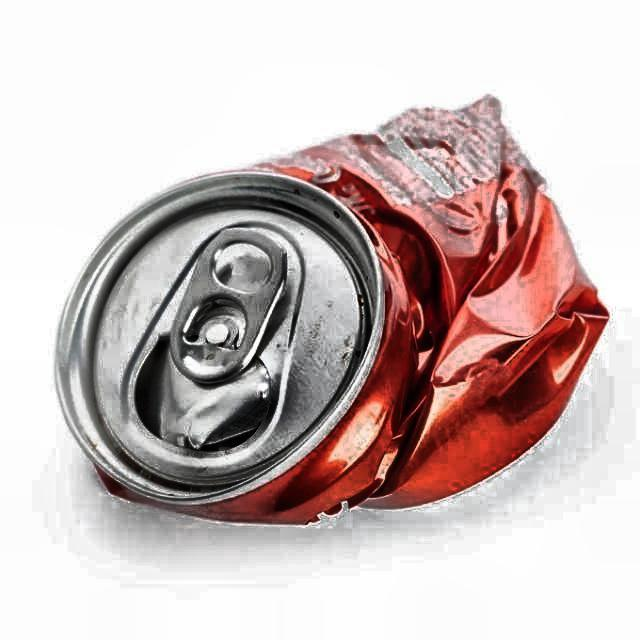metal: (51, 95, 611, 528)
